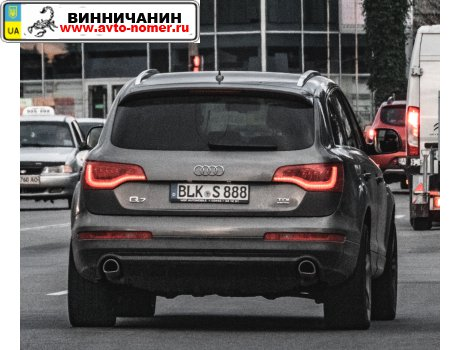License Plates: (179, 181, 245, 199)
